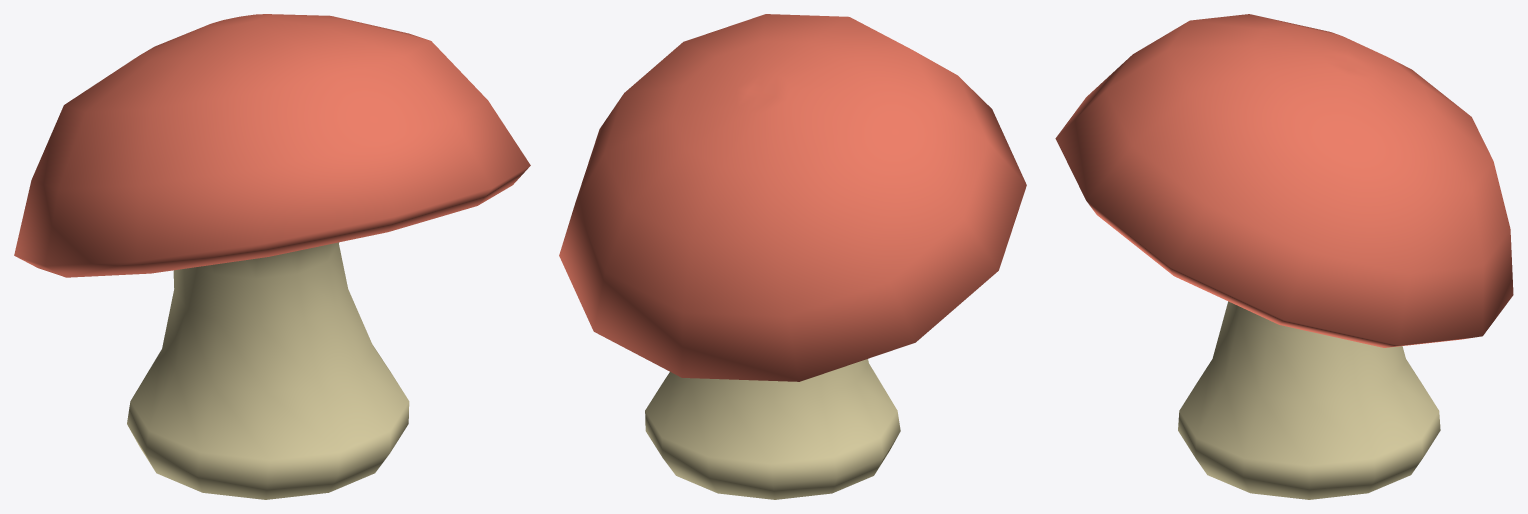
The model's file is MushroomModel01_GillianYu.fbx.
The picture shows the model from 3 angles, left to right: view 1: azimuth 30°, elevation 25°; view 2: azimuth 150°, elevation 25°; view 3: azimuth 270°, elevation 25°; orthographic projection. The views are drawn at different scales.
Parts seen in each view (by area): view 1: mushroom; view 2: mushroom; view 3: mushroom.
Part boxes in pixels (box(x1,y1,x2,y2)): mushroom: box(14, 14, 530, 499); mushroom: box(559, 14, 1026, 499); mushroom: box(1055, 14, 1513, 499).
Bounding box in the file's own units: 33.61 × 30.39 × 31.44.
